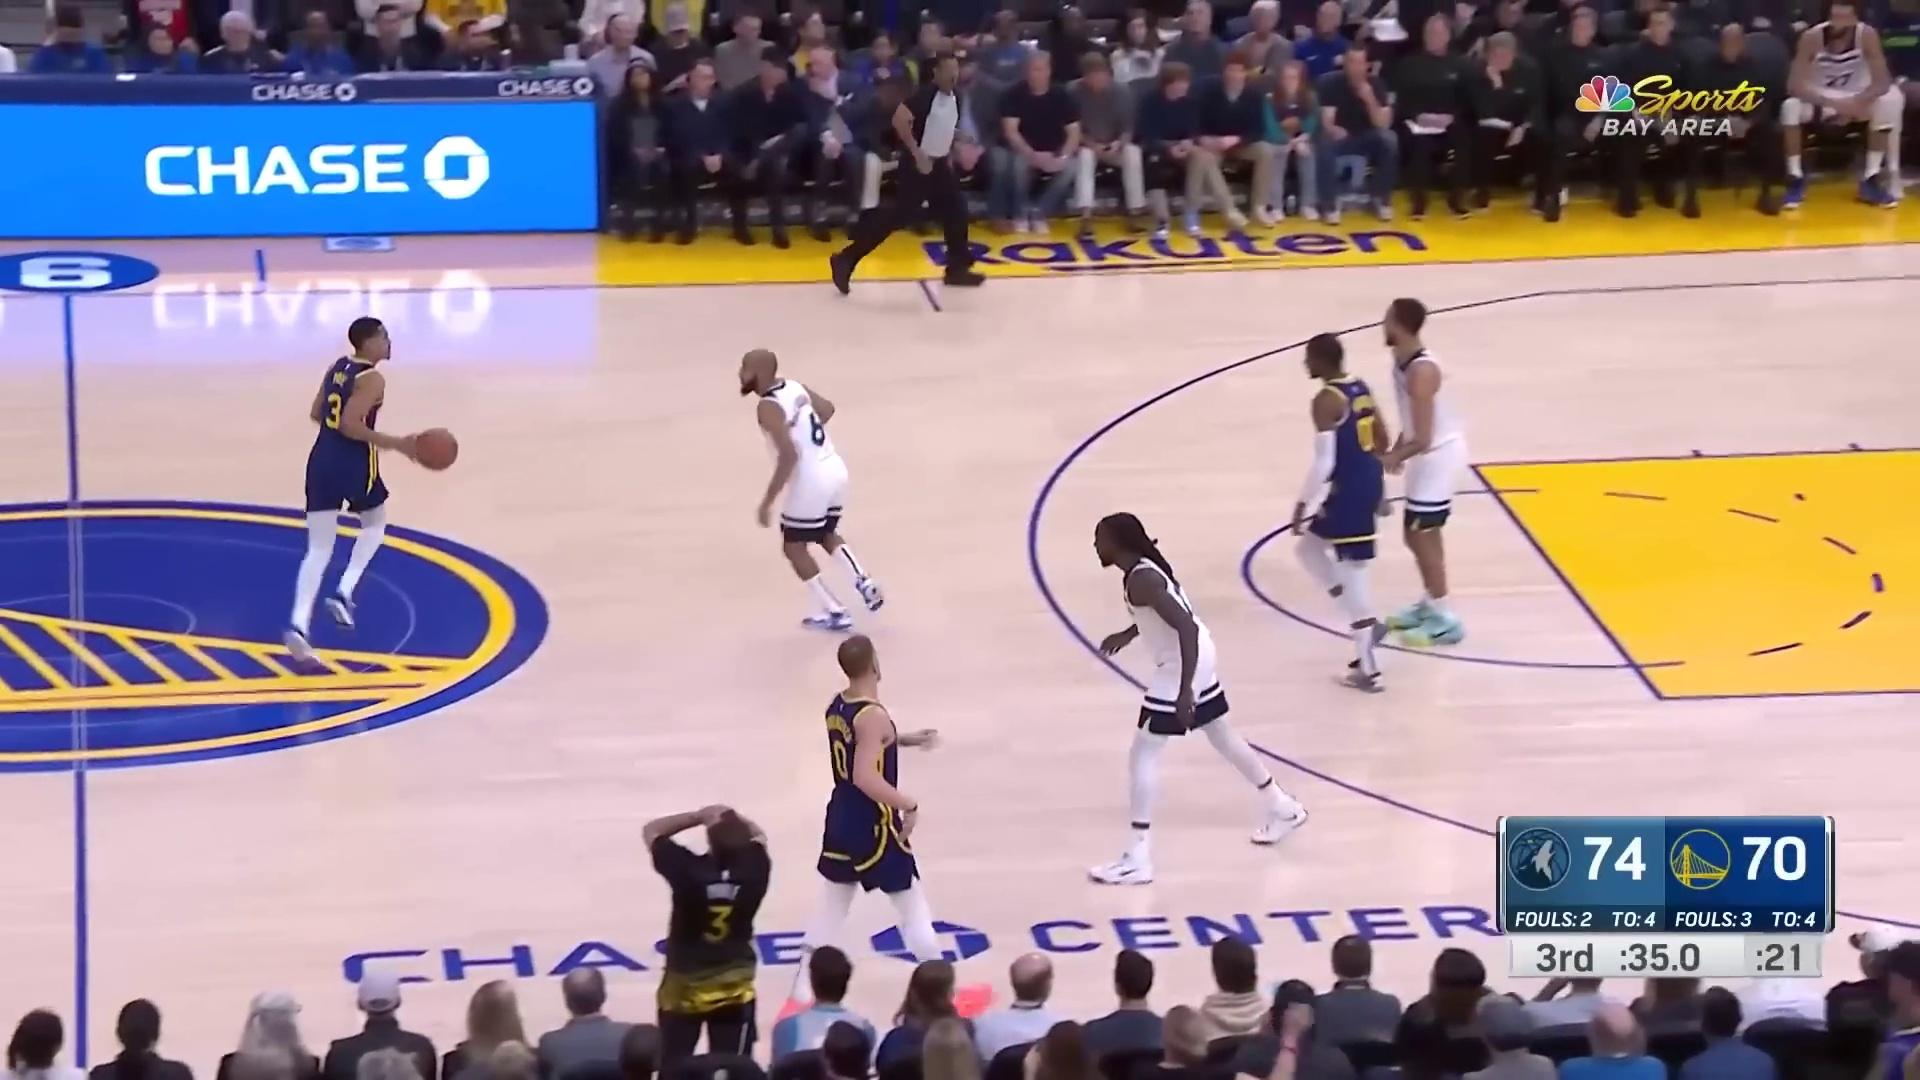Ball: (409, 421, 459, 479)
Player: (1084, 513, 1316, 889), (776, 638, 993, 1038), (291, 319, 433, 661), (736, 351, 886, 629), (1283, 333, 1398, 689), (1378, 294, 1468, 646)
